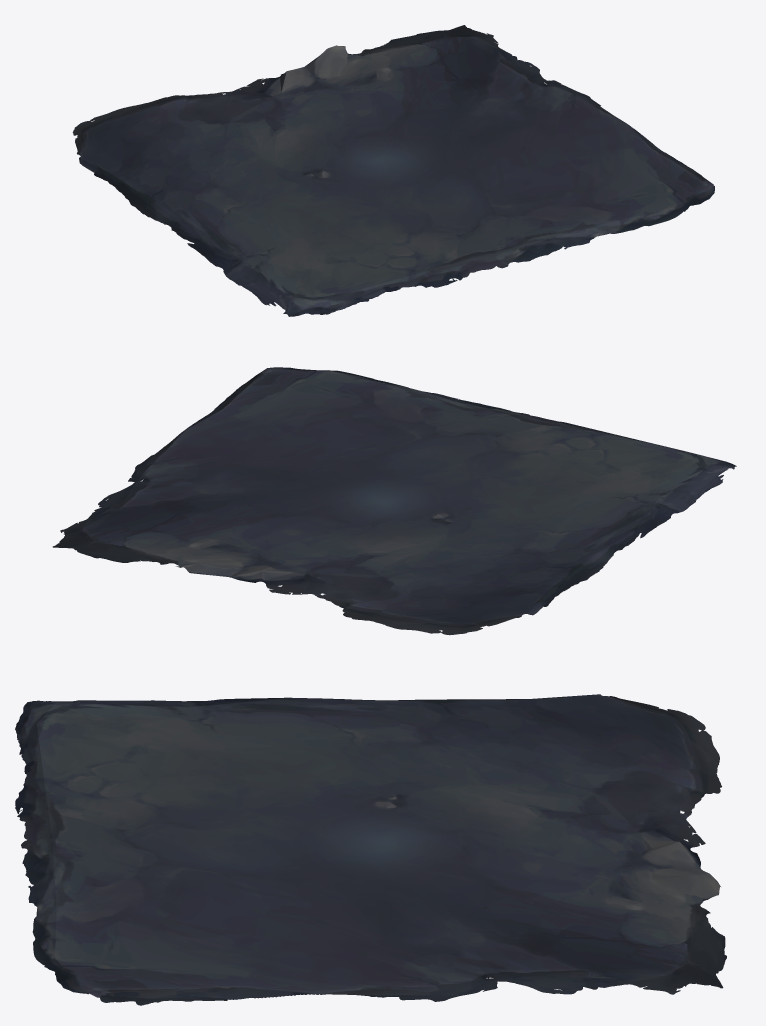
Rendered from LobbyGround_01.FBX.
3 views of the same model, one above another, from view 1: azimuth 30°, elevation 25°; view 2: azimuth 150°, elevation 25°; view 3: azimuth 270°, elevation 25° (orthographic). The views are drawn at different scales.
Visible parts, largest first — view 1: LobbyGround_01; view 2: LobbyGround_01; view 3: LobbyGround_01.
Boxes of the visible parts, bbox=[...] form: LobbyGround_01: bbox=[72, 25, 714, 316]; LobbyGround_01: bbox=[52, 367, 736, 635]; LobbyGround_01: bbox=[15, 694, 726, 1005].
Bounding box in the file's own units: 551 × 20.53 × 551.
